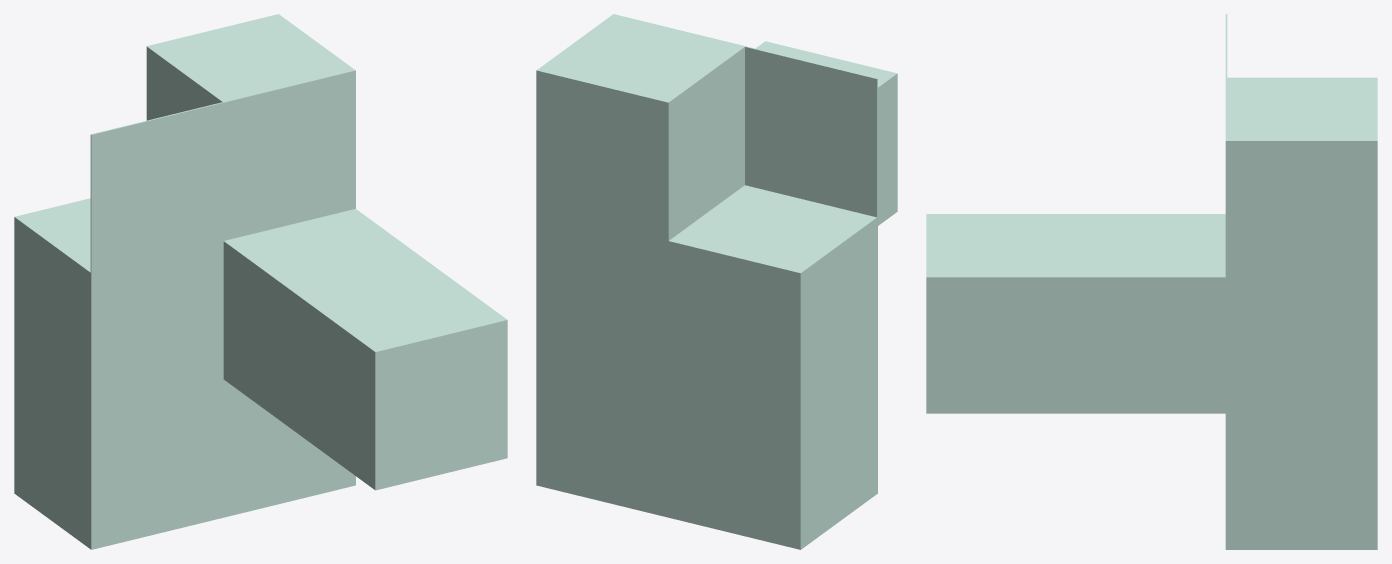
The picture shows the model from 3 angles, left to right: view 1: azimuth 30°, elevation 25°; view 2: azimuth 150°, elevation 25°; view 3: azimuth 270°, elevation 25°; orthographic projection.
Visible parts, largest first — view 1: Renderer Node; view 2: Renderer Node; view 3: Renderer Node.
Boxes of the visible parts, x1,y1,x2,y2 form: Renderer Node: (14, 14, 507, 549); Renderer Node: (536, 14, 897, 549); Renderer Node: (926, 14, 1377, 549).
Size of the model in its own units: 0.5 by 0.75 by 0.75.
